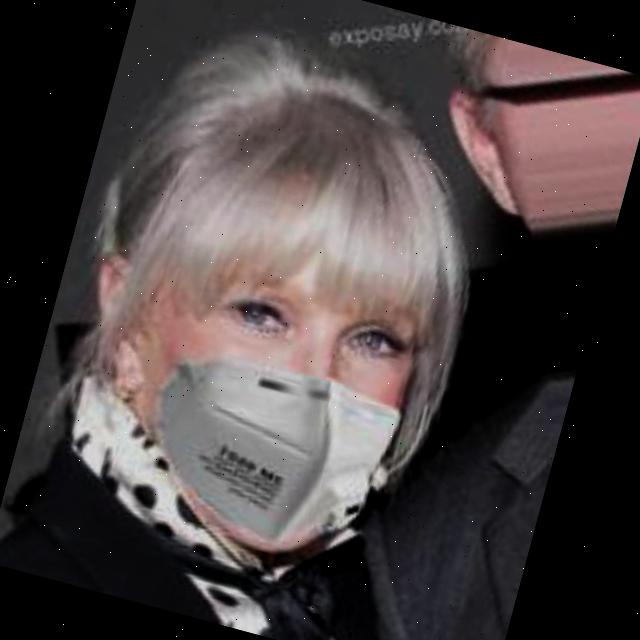suspicion: (58, 130, 500, 590)
